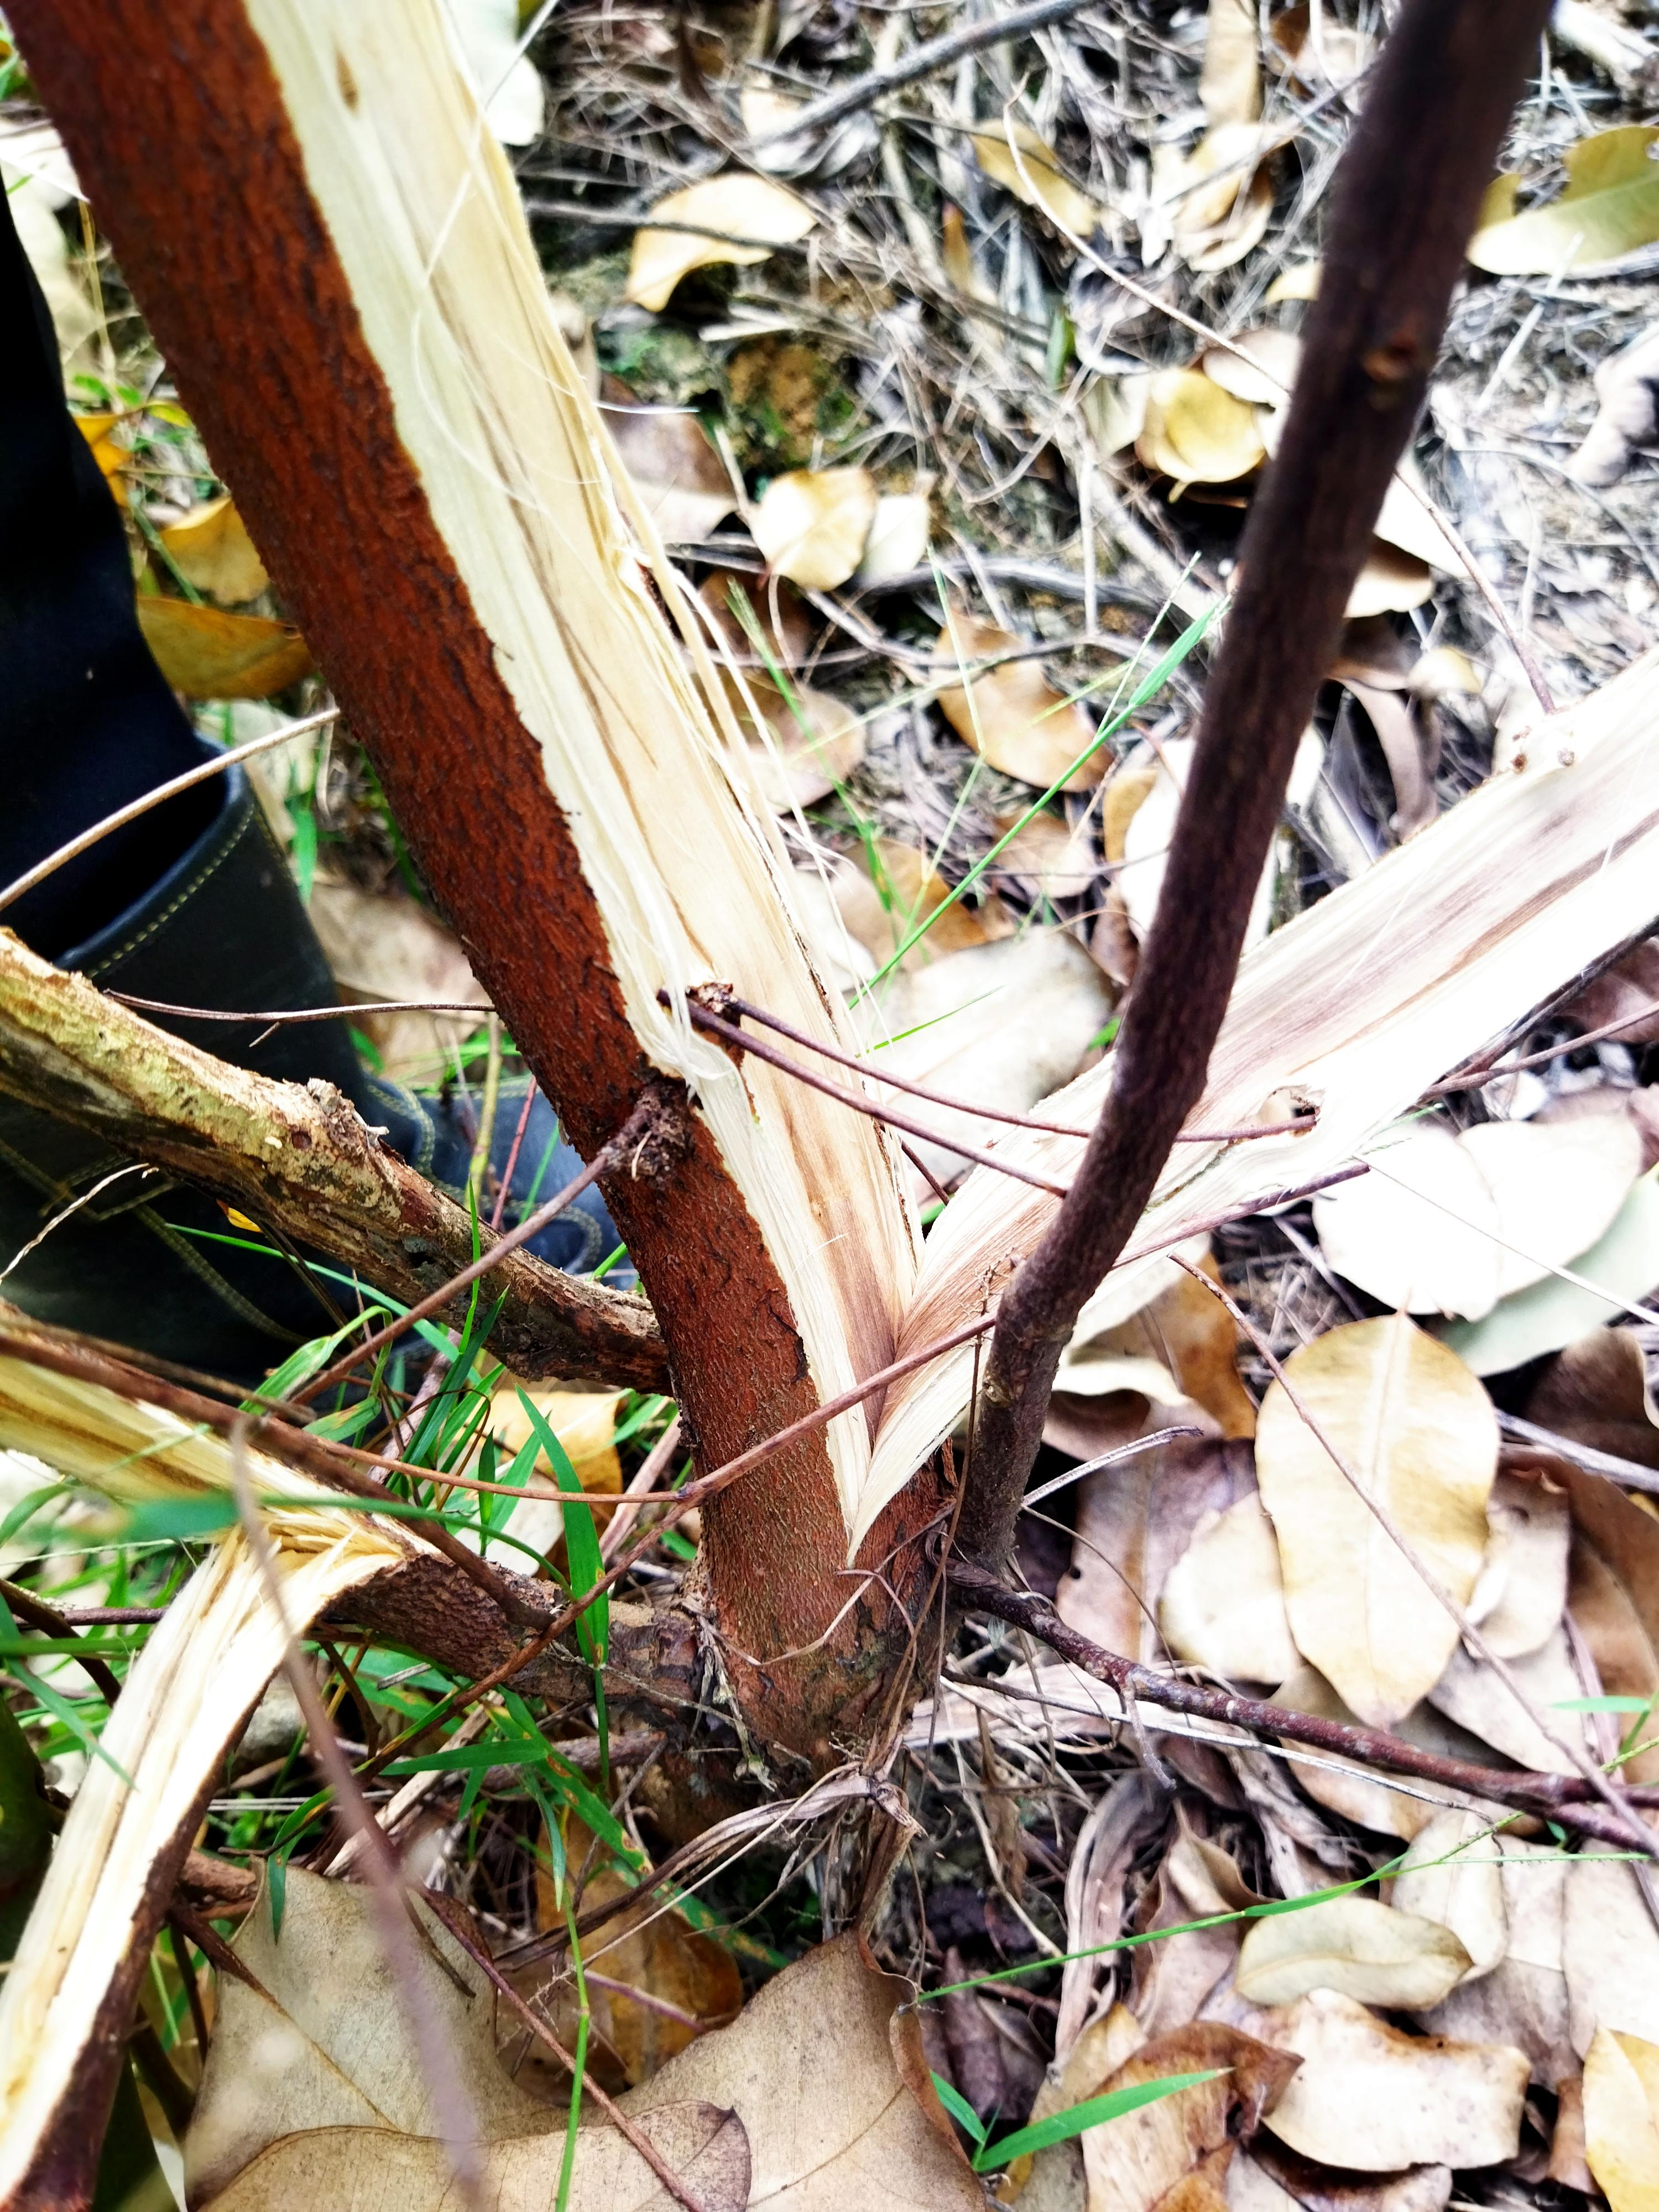Ralstonia: (742, 1068, 930, 1429), (925, 1179, 1067, 1371)
